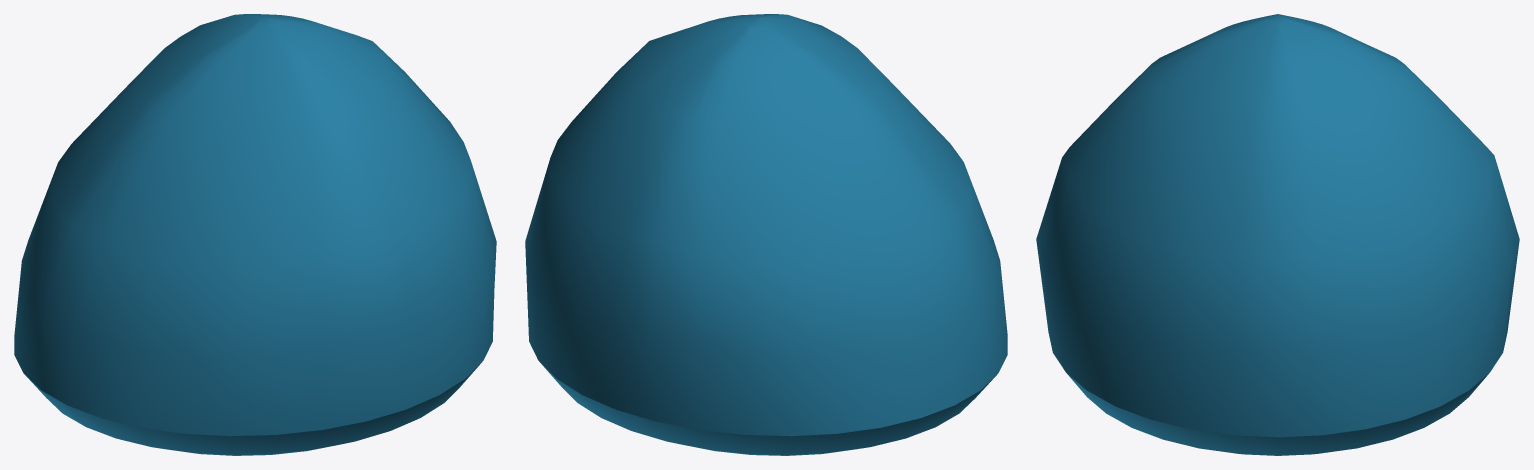
The model's file is slimes.obj.
The picture shows the model from 3 angles, left to right: view 1: azimuth 30°, elevation 25°; view 2: azimuth 150°, elevation 25°; view 3: azimuth 270°, elevation 25°; orthographic projection.
Visible parts, largest first — view 1: slime_Sphere; view 2: slime_Sphere; view 3: slime_Sphere.
Boxes of the visible parts, <box> form: slime_Sphere: <box>14,14,496,455</box>; slime_Sphere: <box>525,14,1007,455</box>; slime_Sphere: <box>1036,14,1519,455</box>.
Bounding box in the file's own units: 1.88 × 1.52 × 1.8.
